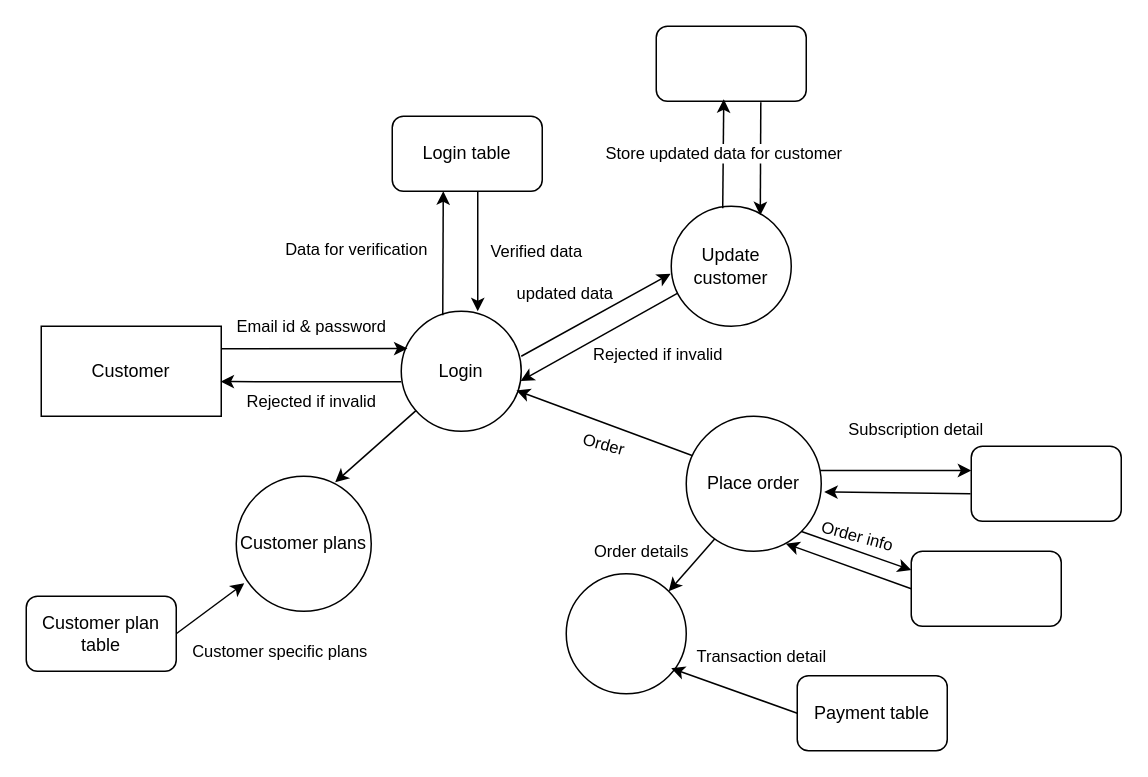
Image size: 1148x777. Some labels were removed from this diagram. Each missing label, with the box of its shape:
Customer table: (655, 25, 806, 101)
Customerplan table: (970, 445, 1121, 521)
Make payment: (565, 572, 686, 694)
Order table: (910, 550, 1061, 626)
